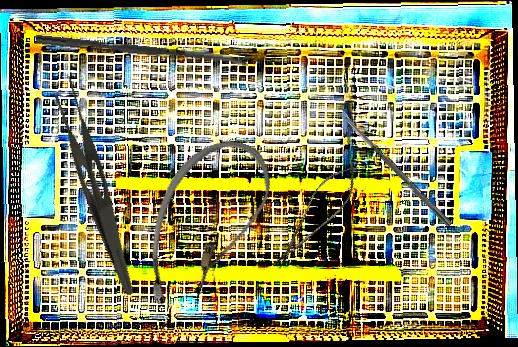Cannula: (129, 124, 283, 327)
Dressing Forceps: (40, 74, 158, 297)
Micro Scissor: (264, 154, 369, 278)
Surgical Spoon: (336, 107, 454, 228), (35, 34, 249, 68)
